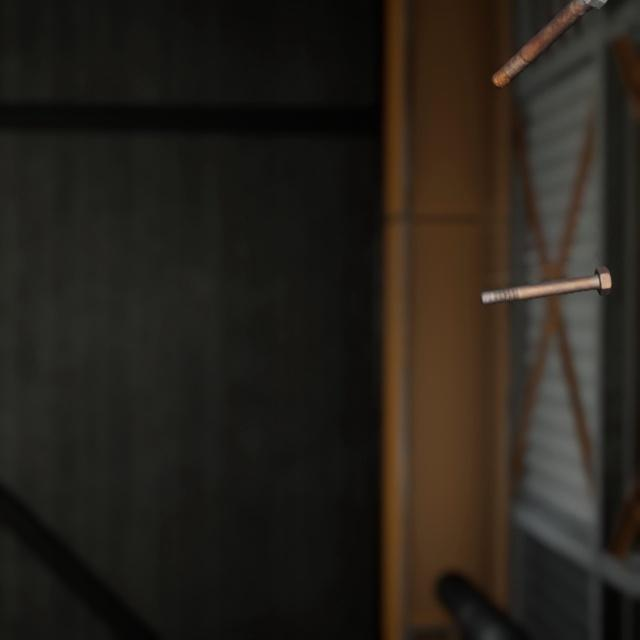bolt: (487, 0, 595, 83), (475, 244, 616, 292)
nut: (523, 617, 566, 640)
